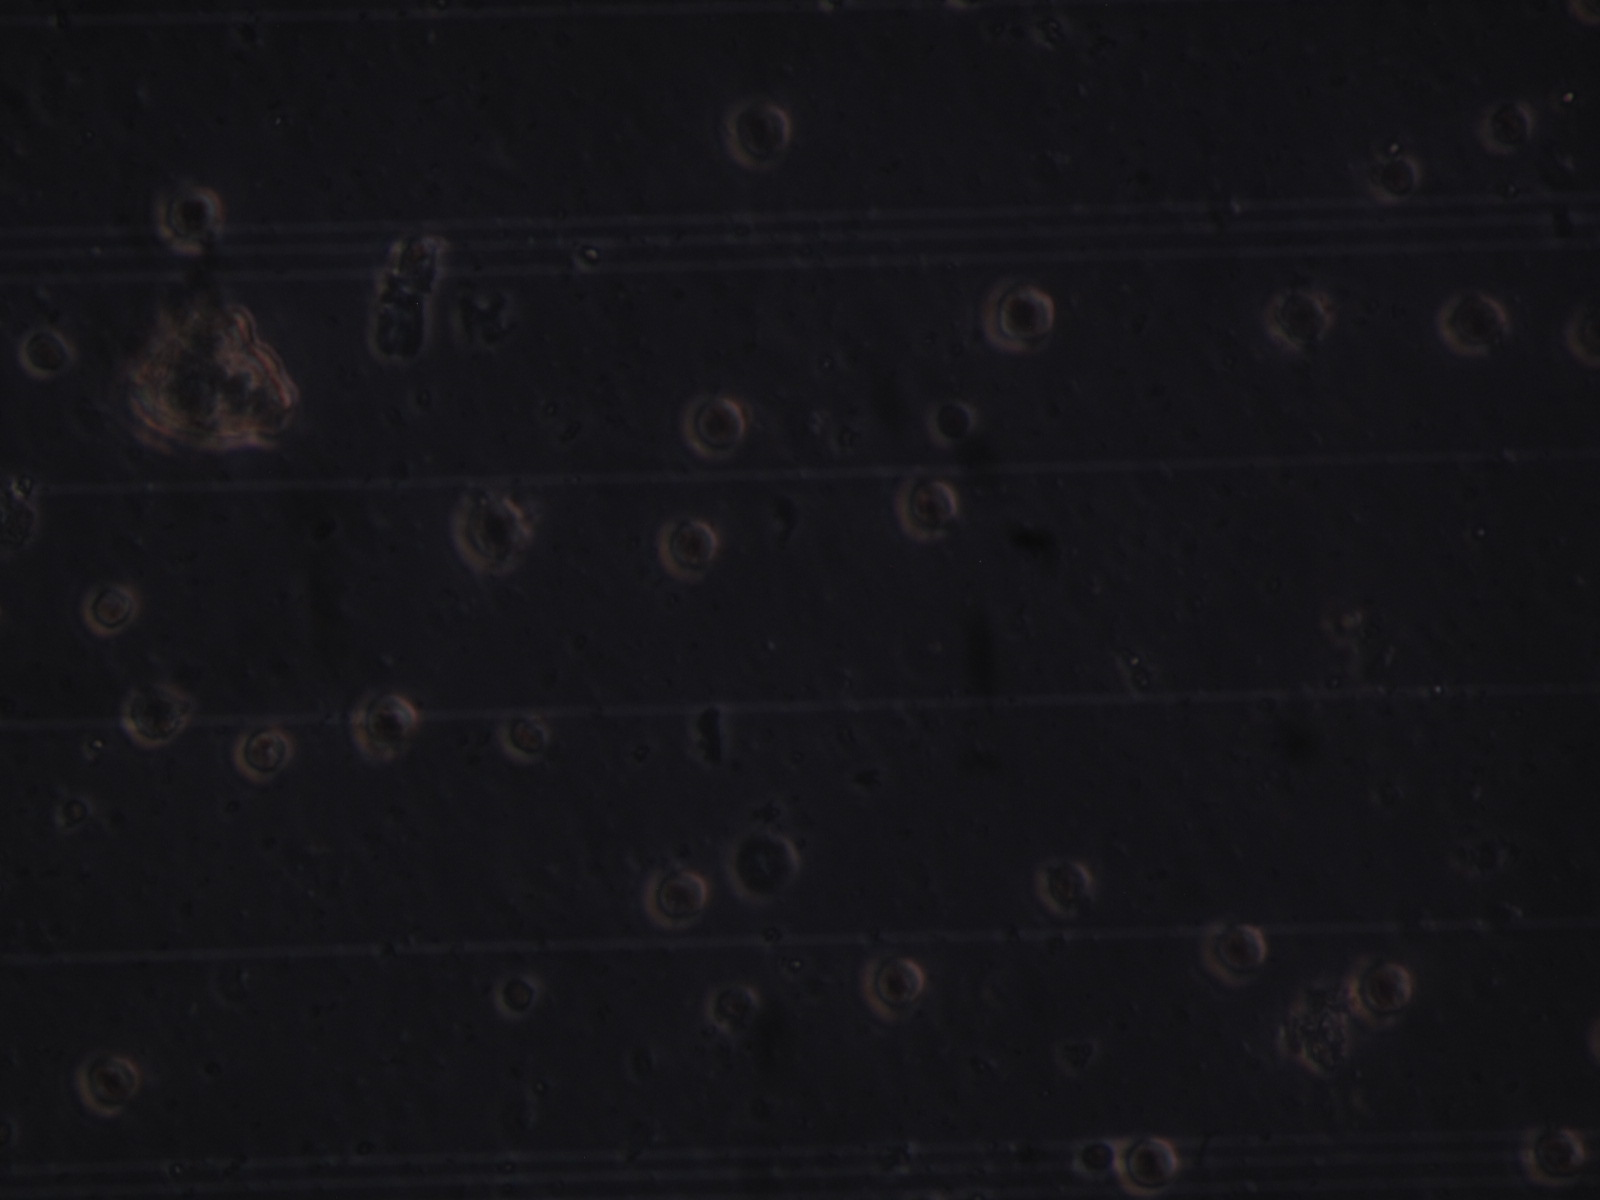hemo: (451, 489, 529, 574), (723, 829, 803, 905), (984, 285, 1057, 355), (727, 97, 791, 176), (1435, 289, 1508, 357), (653, 513, 721, 584), (157, 184, 224, 255), (78, 1047, 142, 1121), (349, 691, 418, 758), (862, 952, 927, 1022), (120, 684, 191, 745), (1522, 1124, 1590, 1187), (1347, 958, 1414, 1021), (1206, 916, 1267, 984), (897, 474, 957, 542), (648, 862, 707, 932), (682, 395, 743, 460), (1266, 287, 1329, 350), (234, 722, 294, 782), (1037, 857, 1094, 916), (1117, 1136, 1179, 1190), (501, 708, 556, 768), (1482, 97, 1534, 158), (18, 324, 73, 381), (84, 582, 139, 635), (925, 397, 978, 445), (493, 971, 540, 1021), (1374, 156, 1425, 200)
